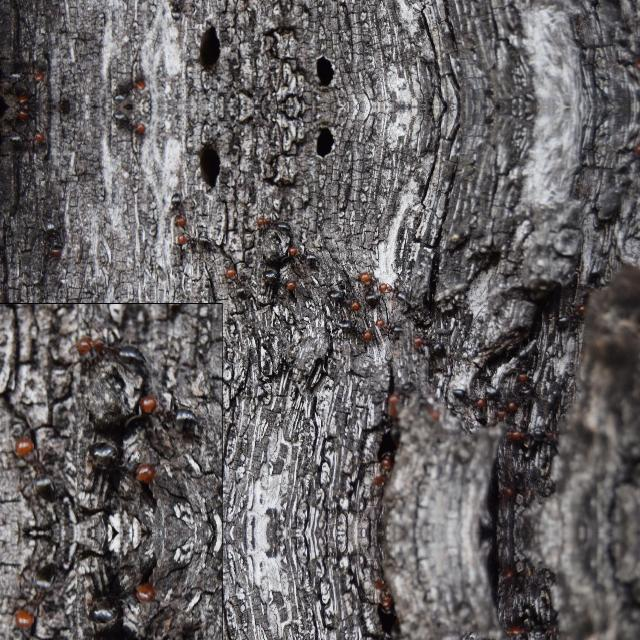Crematogaster: (133, 386, 211, 436), (86, 442, 164, 486), (86, 580, 164, 622), (12, 566, 62, 630), (12, 436, 62, 498), (76, 336, 154, 374), (42, 218, 68, 270), (222, 264, 250, 302), (167, 190, 193, 230), (264, 266, 298, 294), (554, 299, 588, 327), (133, 628, 211, 640), (251, 213, 291, 235), (173, 230, 217, 250), (505, 422, 545, 444), (382, 402, 404, 442), (410, 332, 446, 356), (410, 393, 440, 421), (113, 110, 147, 134), (113, 78, 147, 102), (505, 620, 545, 640), (334, 318, 370, 340), (329, 286, 359, 312), (287, 242, 319, 266), (504, 471, 526, 504), (504, 562, 526, 594), (454, 387, 486, 408), (381, 282, 411, 304), (490, 384, 516, 408), (376, 316, 404, 338), (362, 272, 378, 308), (167, 0, 193, 22), (518, 368, 536, 398), (15, 133, 47, 149), (15, 63, 47, 79), (392, 376, 408, 402), (382, 622, 404, 640), (16, 106, 34, 122), (16, 90, 34, 106)
